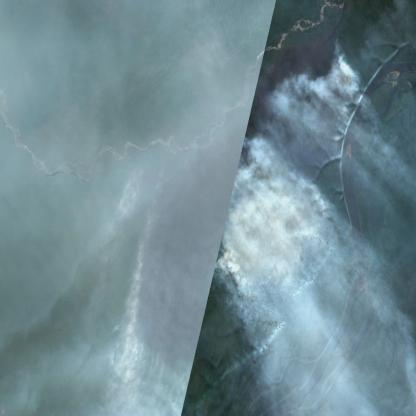fire: (103, 27, 361, 378)
